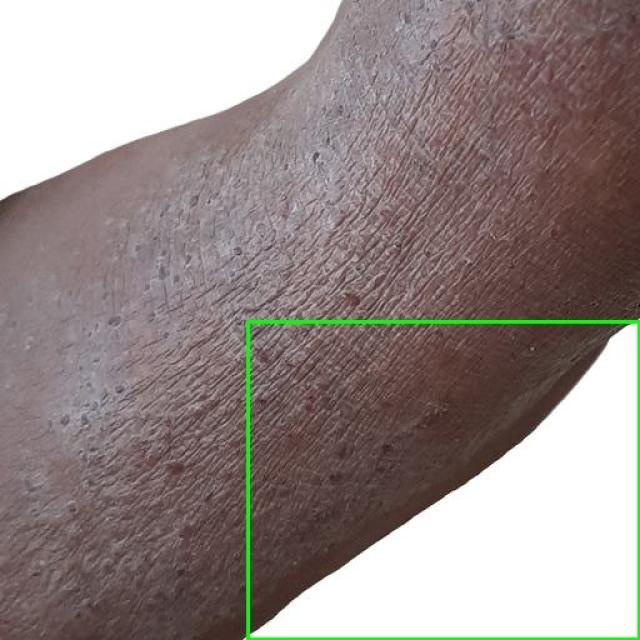Contact Dermatitis: (248, 321, 639, 639)
